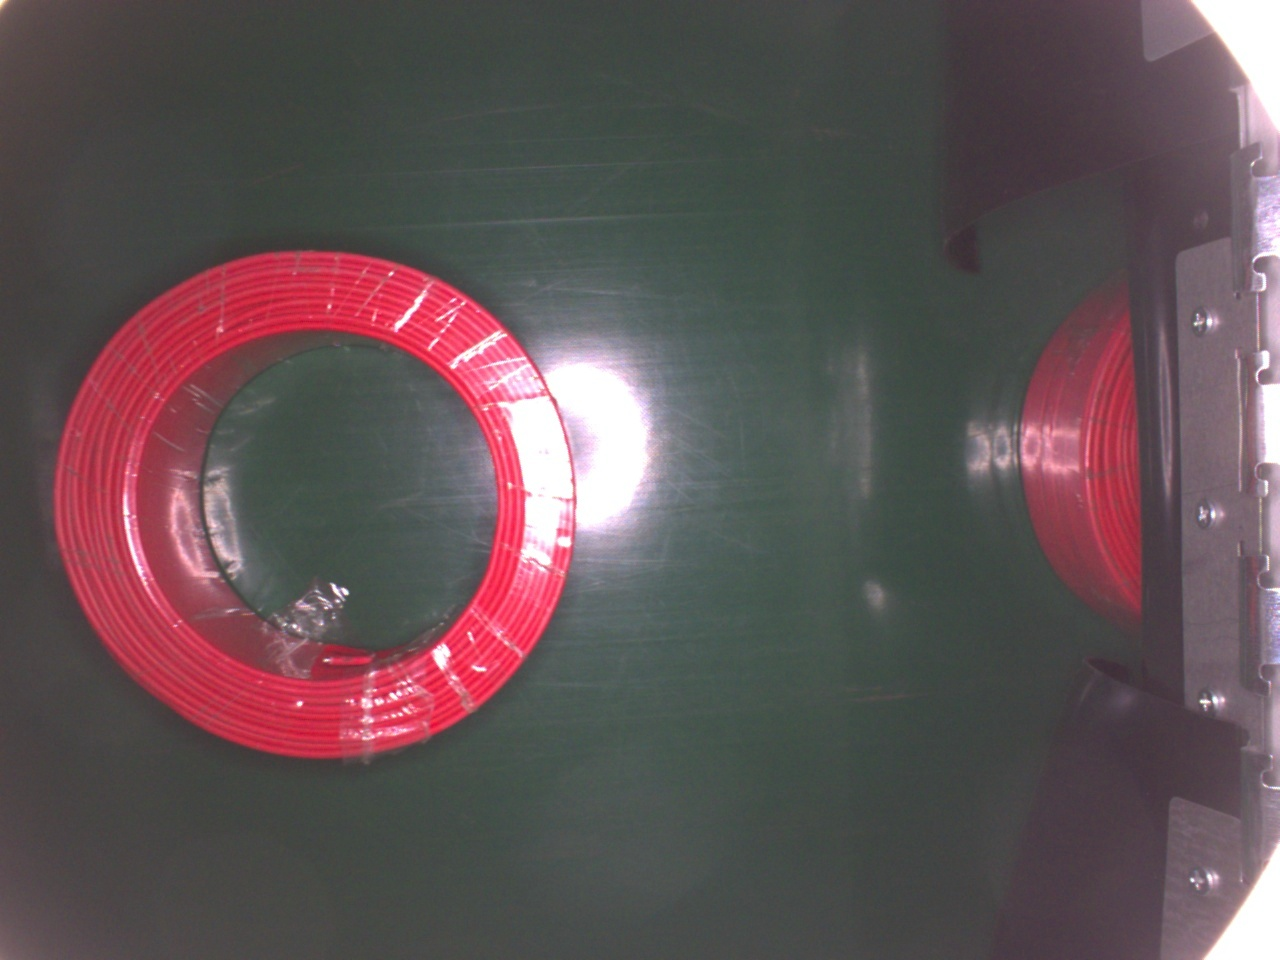red: (49, 246, 580, 764), (1018, 257, 1155, 635)
